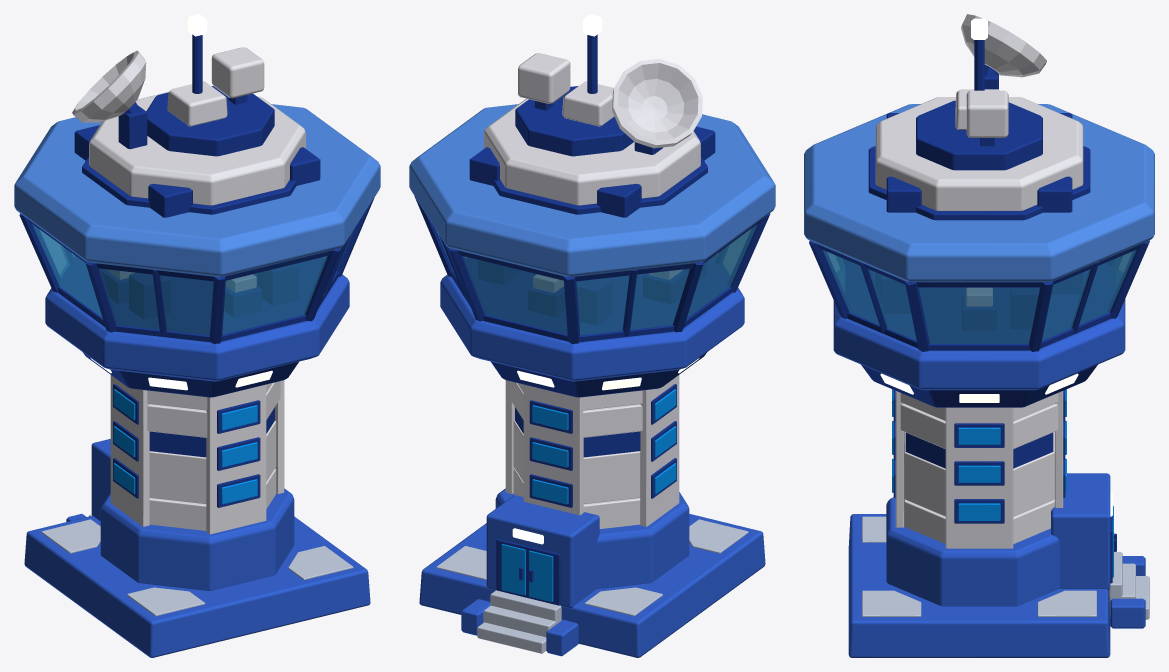
Rendered from ControlTower.glb.
The picture shows the model from 3 angles, left to right: view 1: azimuth 30°, elevation 25°; view 2: azimuth 150°, elevation 25°; view 3: azimuth 270°, elevation 25°; orthographic projection. The views are drawn at different scales.
Parts seen in each view (by area): view 1: M_ControlTower_TowerBlue, M_ControlTower_TowerNavy, M_ControlTower_PlaneBody, M_ControlTower_TowerRoof, M_ControlTower_TowerGlass, M_ControlTower_PlaneFlap, M_ControlTower_TruckCab, M_ControlTower_Light; view 2: M_ControlTower_TowerBlue, M_ControlTower_PlaneBody, M_ControlTower_TowerNavy, M_ControlTower_TowerRoof, M_ControlTower_TowerGlass, M_ControlTower_PlaneFlap, M_ControlTower_TruckCab, M_ControlTower_Light; view 3: M_ControlTower_TowerBlue, M_ControlTower_TowerNavy, M_ControlTower_PlaneBody, M_ControlTower_TowerRoof, M_ControlTower_TowerGlass, M_ControlTower_PlaneFlap, M_ControlTower_TruckCab, M_ControlTower_Light.
Boxes of the visible parts, x1=… form: M_ControlTower_TowerBlue: x1=24, y1=274, x2=370, y2=657; M_ControlTower_TowerNavy: x1=19, y1=34, x2=374, y2=507; M_ControlTower_PlaneBody: x1=72, y1=47, x2=305, y2=534; M_ControlTower_TowerRoof: x1=14, y1=104, x2=380, y2=277; M_ControlTower_TowerGlass: x1=32, y1=224, x2=353, y2=335; M_ControlTower_PlaneFlap: x1=41, y1=514, x2=353, y2=616; M_ControlTower_TruckCab: x1=113, y1=389, x2=257, y2=504; M_ControlTower_Light: x1=90, y1=14, x2=301, y2=390; M_ControlTower_TowerBlue: x1=419, y1=274, x2=765, y2=657; M_ControlTower_PlaneBody: x1=484, y1=53, x2=702, y2=528; M_ControlTower_TowerNavy: x1=414, y1=34, x2=770, y2=605; M_ControlTower_TowerRoof: x1=409, y1=104, x2=775, y2=277; M_ControlTower_TowerGlass: x1=436, y1=224, x2=757, y2=335; M_ControlTower_PlaneFlap: x1=436, y1=519, x2=748, y2=653; M_ControlTower_TruckCab: x1=501, y1=389, x2=676, y2=601; M_ControlTower_Light: x1=488, y1=14, x2=699, y2=544; M_ControlTower_TowerBlue: x1=833, y1=299, x2=1145, y2=657; M_ControlTower_TowerNavy: x1=809, y1=40, x2=1149, y2=583; M_ControlTower_PlaneBody: x1=875, y1=14, x2=1083, y2=548; M_ControlTower_TowerRoof: x1=804, y1=104, x2=1154, y2=282; M_ControlTower_TowerGlass: x1=823, y1=250, x2=1136, y2=343; M_ControlTower_PlaneFlap: x1=862, y1=516, x2=1149, y2=619; M_ControlTower_TruckCab: x1=892, y1=389, x2=1113, y2=577; M_ControlTower_Light: x1=880, y1=18, x2=1112, y2=516.
Bounding box in the file's own units: 13 × 23.83 × 13.
